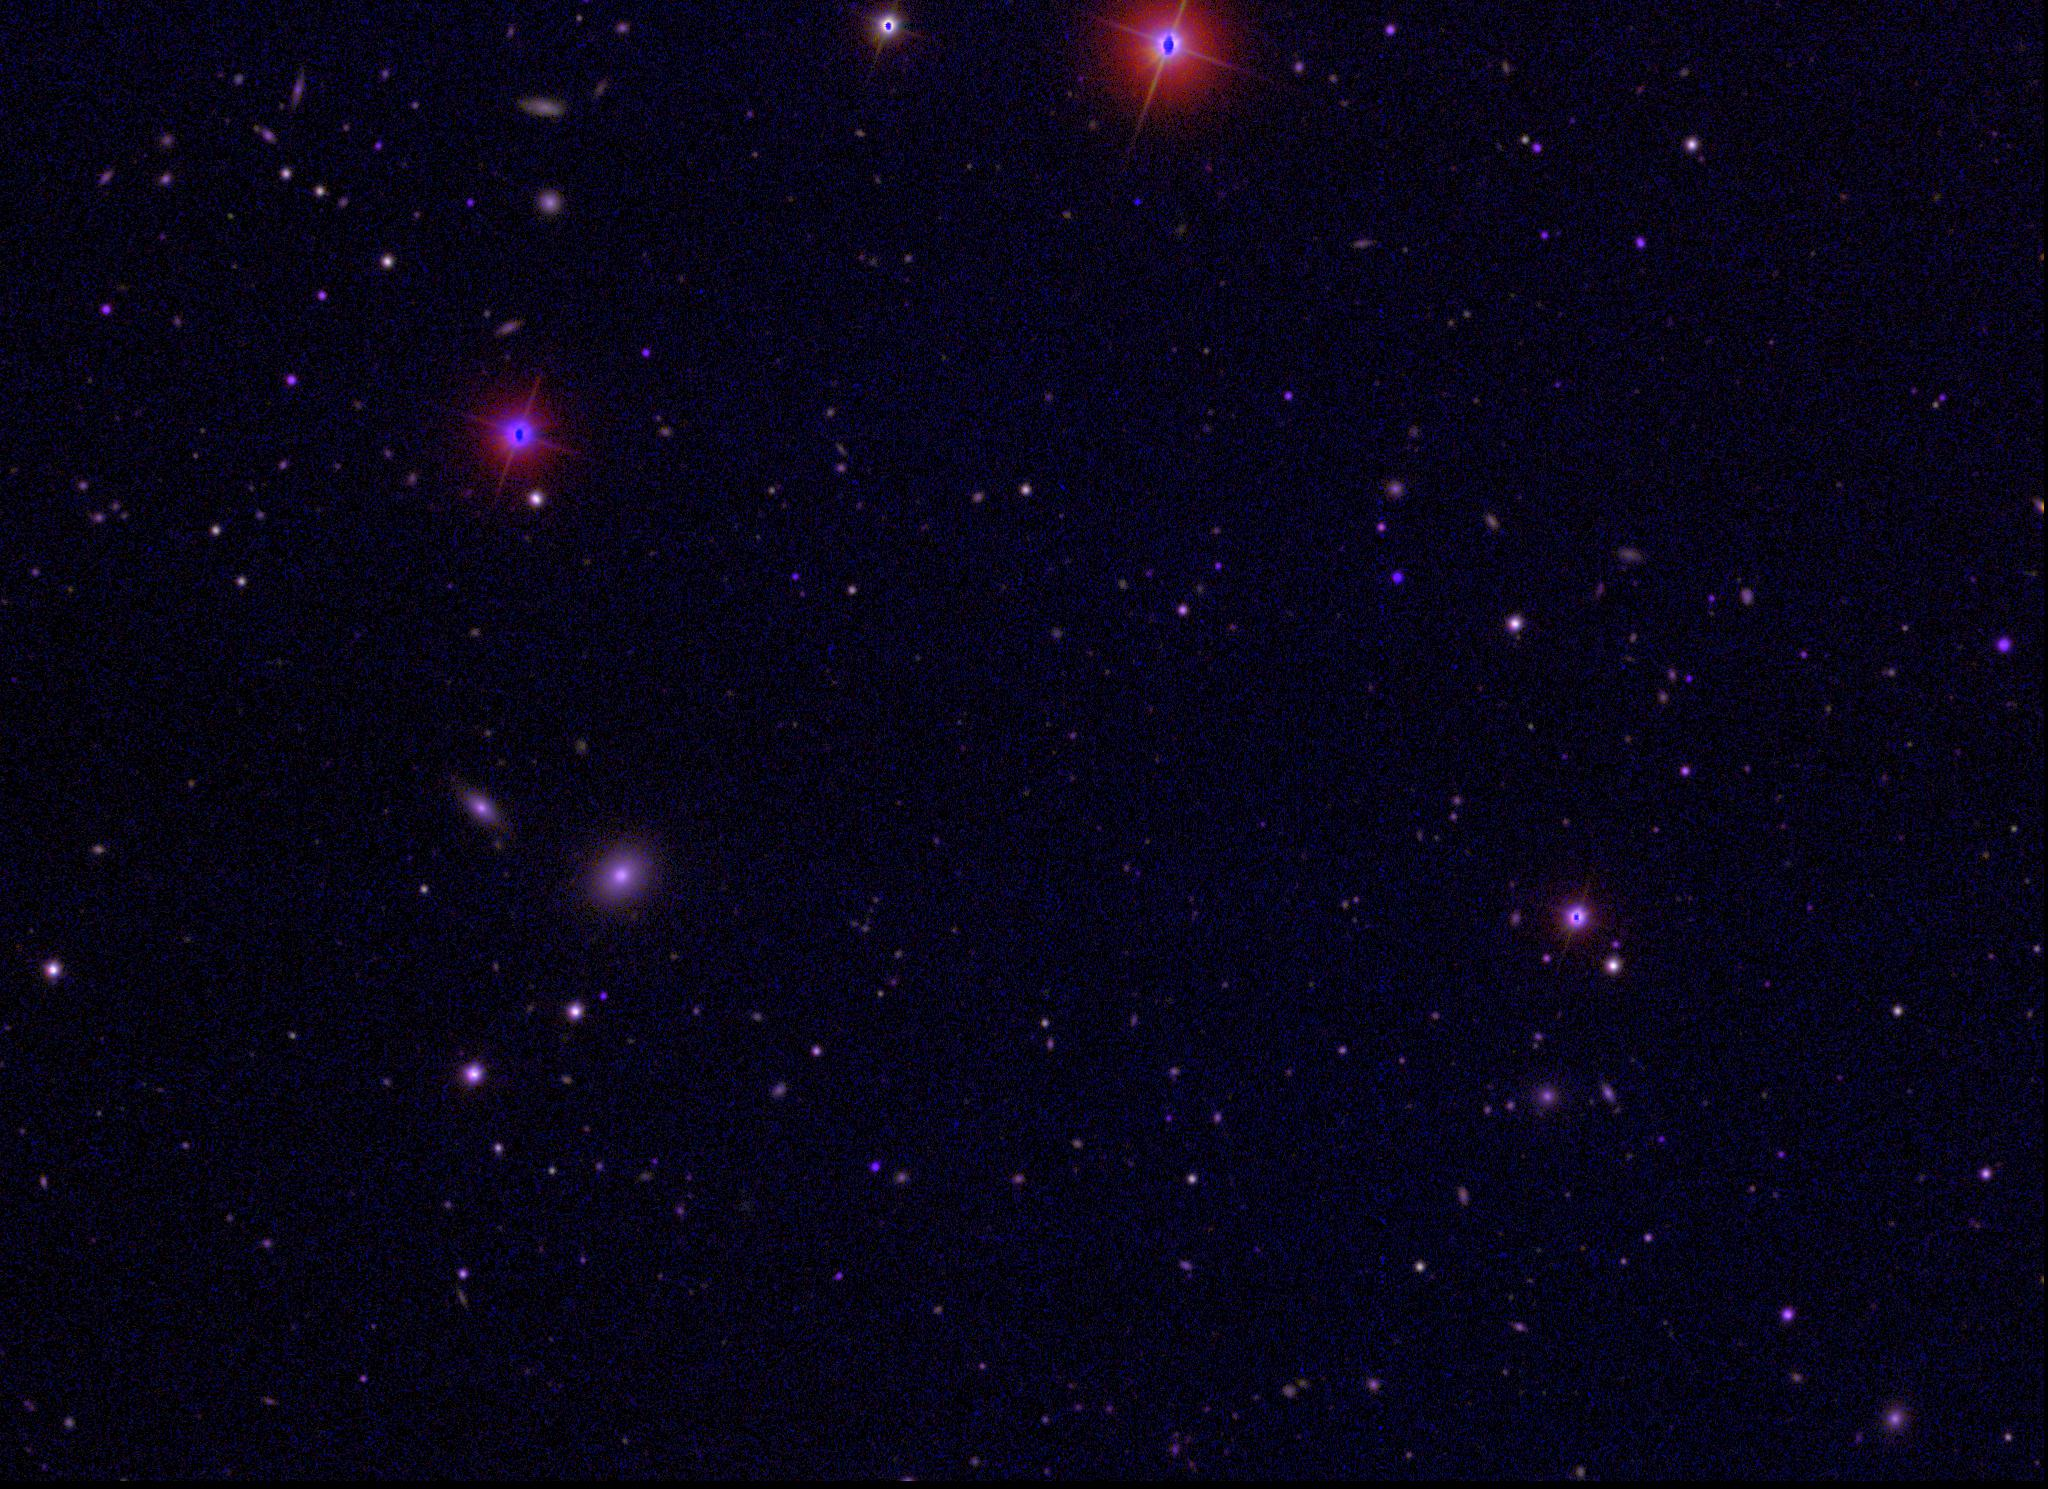L: (1131, 192, 1145, 207)
